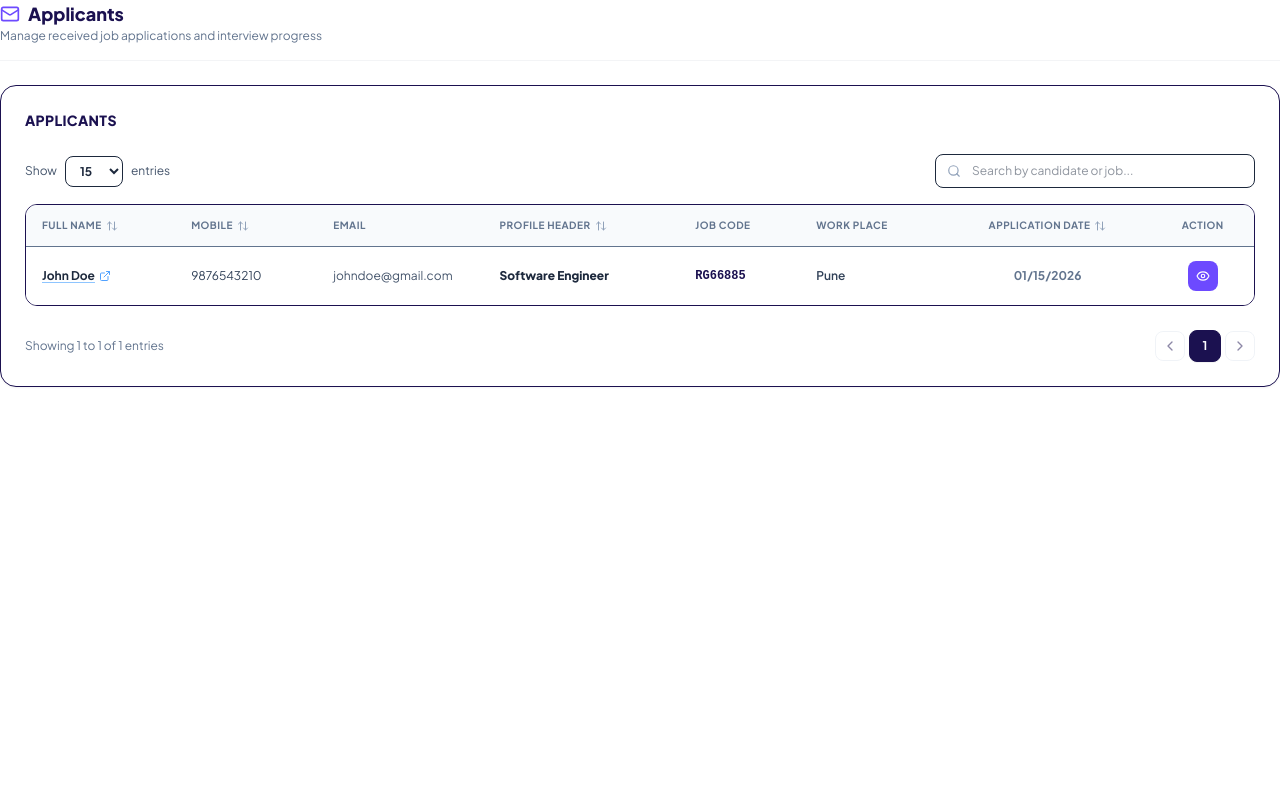
AdminJobApplications › renders applications list and opens detail modal
expect the link "John Doe" is shown: met, box [42,268,111,284]
expect the text "Software Engineer" is shown: met, box [484,247,679,305]
Click the button titled "View Application": {"x": 1203, "y": 276} [1188,261,1218,291]
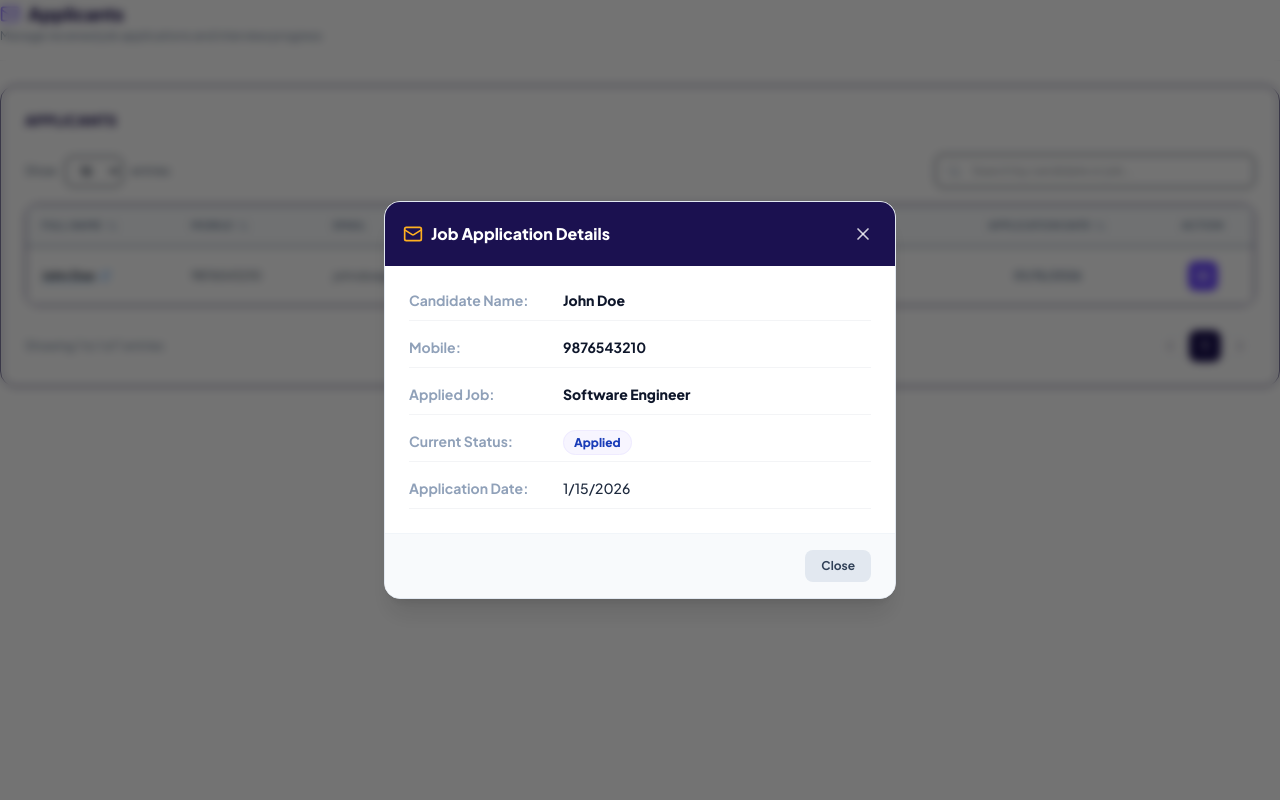
expect the heading "Job Application Details" is shown: met, box [431,222,610,246]
expect the text "Current Status:" is shown: met, box [409,432,513,450]
